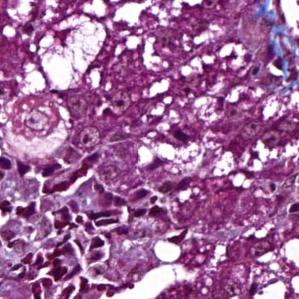ballooning: (34, 12, 108, 94)
